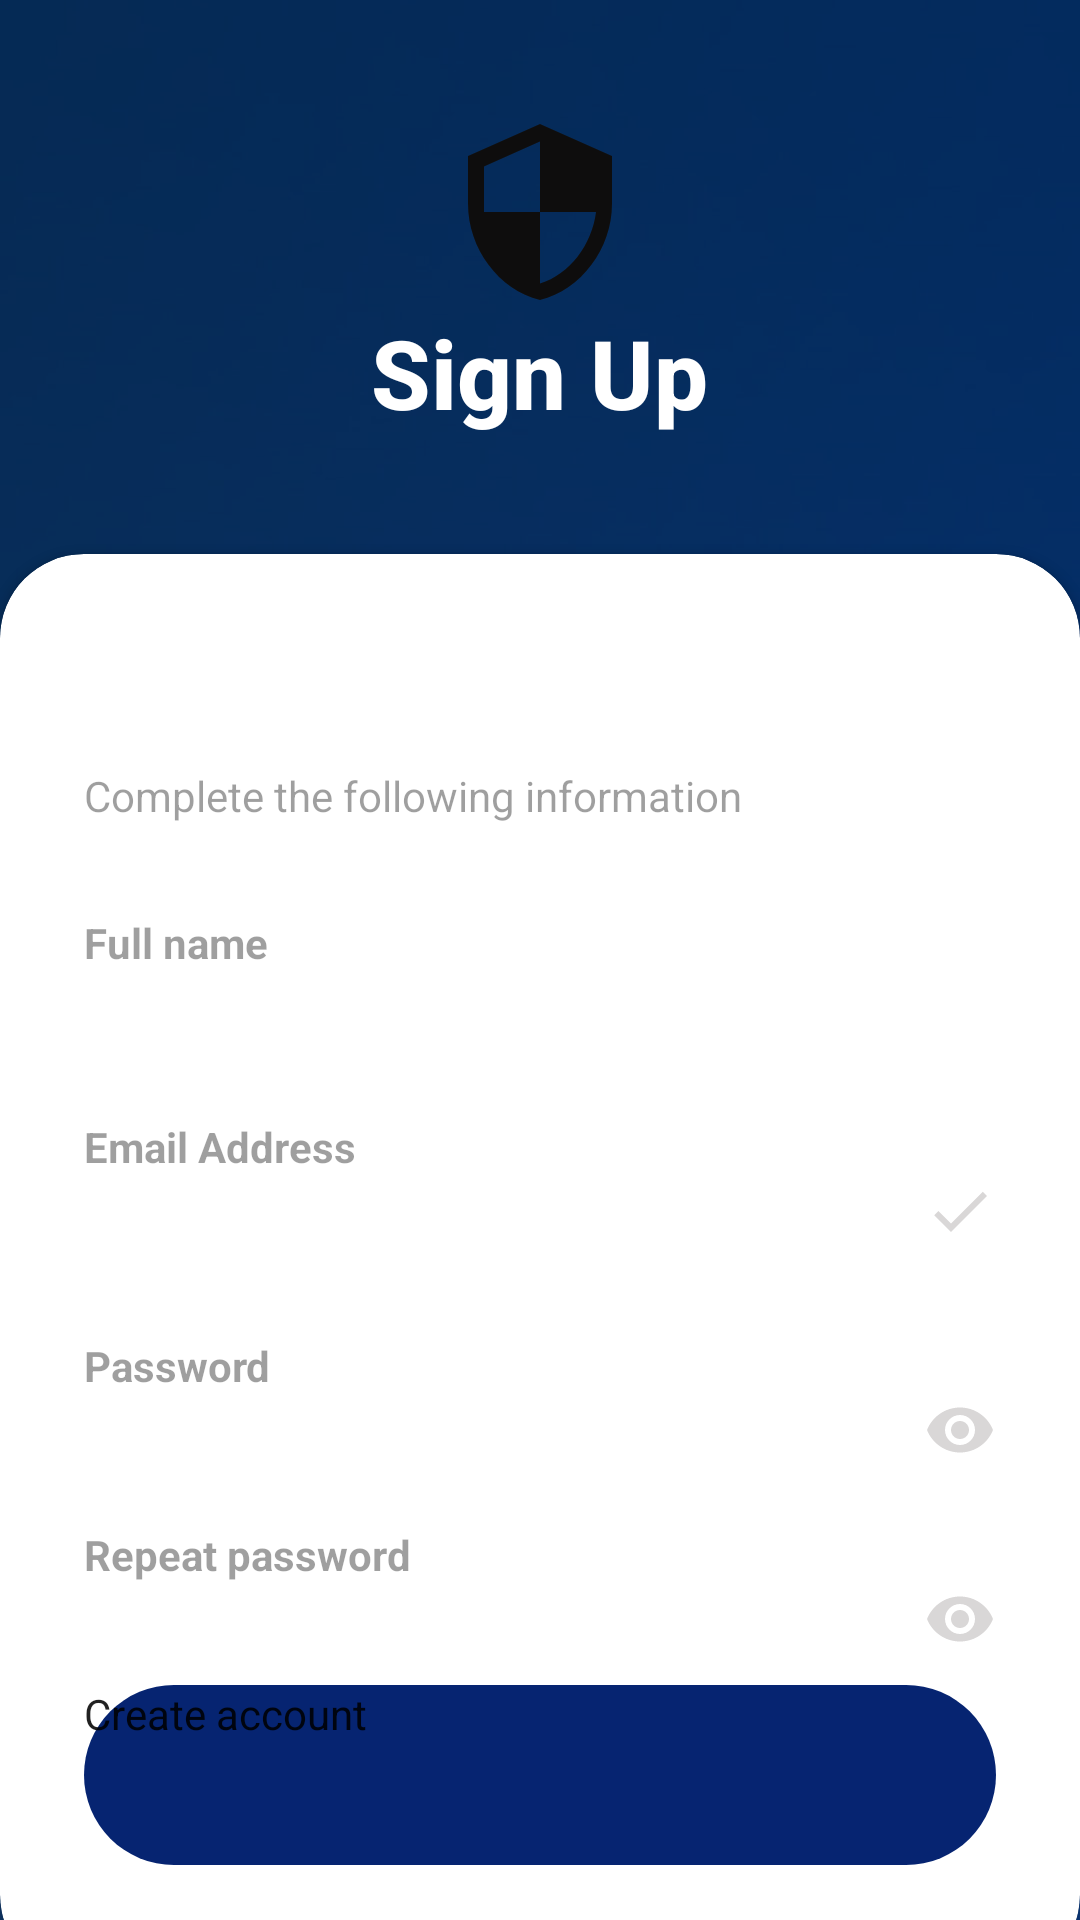

Named icons in this screenshot (1080 x 1920) and their centers, (x,y):
security: (540,212)
